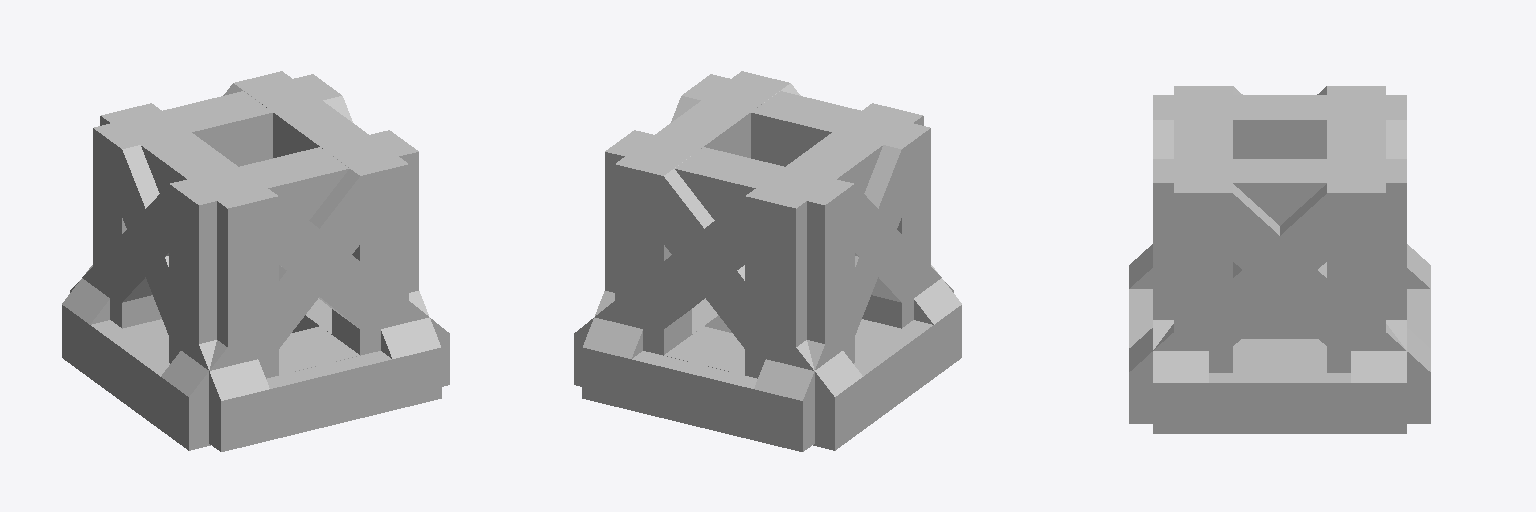
Rendered from Launchertowerblockhead.obj.
3 renders of one model, left to right at view 1: azimuth 30°, elevation 25°; view 2: azimuth 150°, elevation 25°; view 3: azimuth 270°, elevation 25°, orthographic.
Parts seen in each view (by area): view 1: SmallSilo_SmallSilo.001, SmallSilo.003, SmallSilo.001_SmallSilo.000, SmallSilo.002; view 2: SmallSilo_SmallSilo.001, SmallSilo.002, SmallSilo.001_SmallSilo.000, SmallSilo.003; view 3: SmallSilo.001_SmallSilo.000, SmallSilo.002, SmallSilo.003, SmallSilo_SmallSilo.001.
Boxes of the visible parts, x1,y1,x2,y2 form: SmallSilo_SmallSilo.001: [62, 71, 408, 450]; SmallSilo.003: [93, 74, 441, 451]; SmallSilo.001_SmallSilo.000: [100, 103, 449, 386]; SmallSilo.002: [70, 130, 418, 363]; SmallSilo_SmallSilo.001: [615, 71, 961, 450]; SmallSilo.002: [582, 74, 930, 451]; SmallSilo.001_SmallSilo.000: [574, 103, 923, 386]; SmallSilo.003: [605, 130, 953, 363]; SmallSilo.001_SmallSilo.000: [1153, 95, 1406, 433]; SmallSilo.002: [1174, 86, 1430, 423]; SmallSilo.003: [1129, 86, 1385, 423]; SmallSilo_SmallSilo.001: [1153, 159, 1406, 362].
Size of the model in its own units: 1.17 by 1 by 1.17.